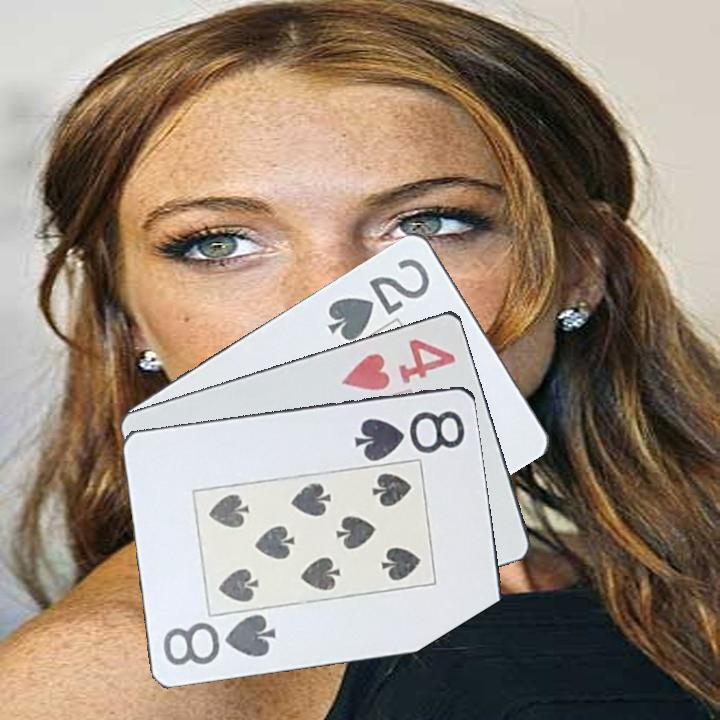2s: (324, 254, 433, 344)
4h: (337, 332, 459, 393)
8s: (160, 610, 280, 668), (351, 406, 468, 461)
